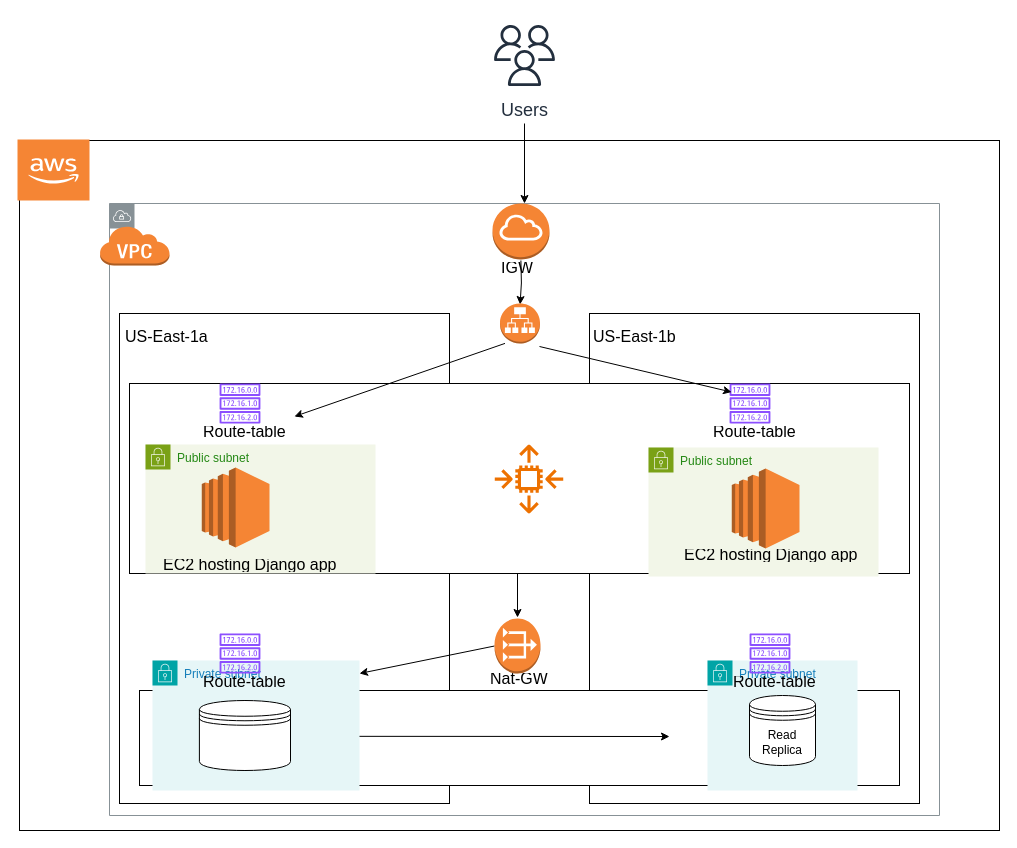
The diagram is 1017 pixels wide and 848 high, and some of its shapes have lost their labels. The centre of each missing label's shape, as x and y in pixels:
AG: point 528,478
LB: point 519,323
Primary DB: point 244,735
